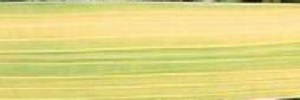RiceTungro: (1, 1, 300, 100)
